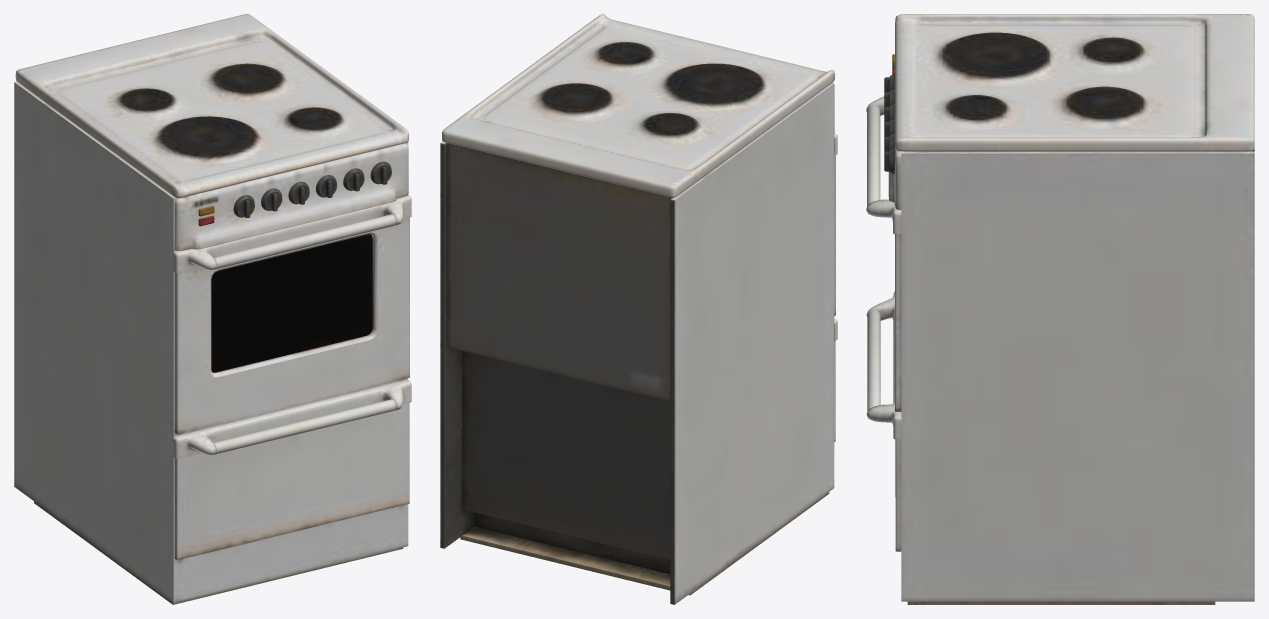
Rendered from ph_electric_stove.glb.
The picture shows the model from 3 angles, left to right: view 1: azimuth 30°, elevation 25°; view 2: azimuth 150°, elevation 25°; view 3: azimuth 270°, elevation 25°; orthographic projection. The views are drawn at different scales.
Parts seen in each view (by area): view 1: stovetop; view 2: stovetop; view 3: stovetop.
Boxes of the visible parts, <box> form: stovetop: <box>14,14,411,604</box>; stovetop: <box>440,14,837,604</box>; stovetop: <box>866,14,1254,604</box>.
Bounding box in the file's own units: 0.5026 × 0.8587 × 0.6476.
2 materials, 2 textured.
